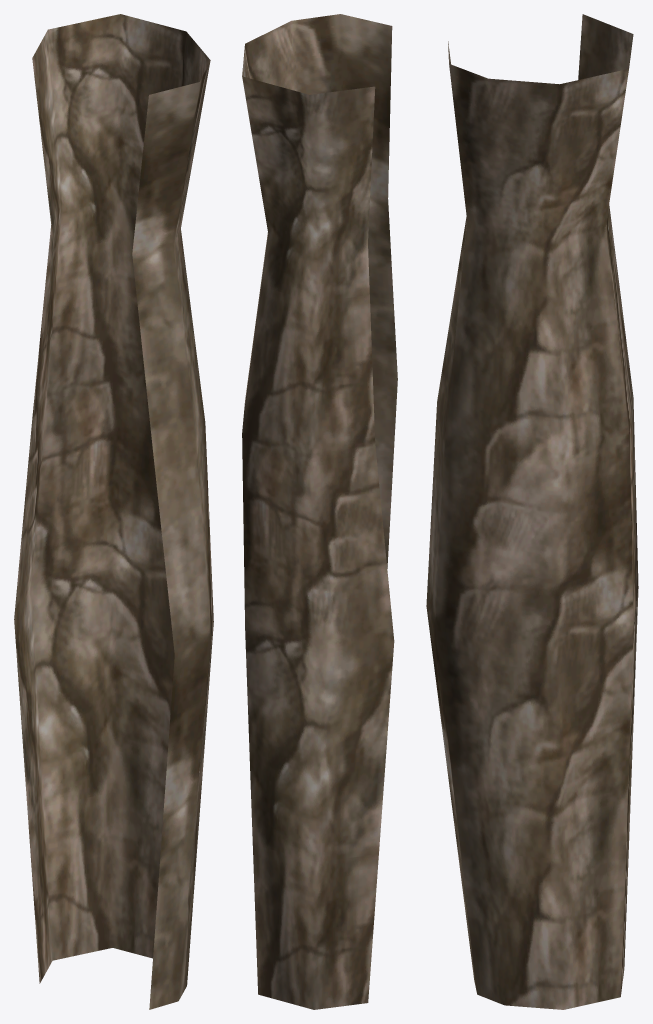
The model's file is OVERHILL_A_01_LINE344.fbx.
3 views of the same model, side by side, from view 1: azimuth 30°, elevation 25°; view 2: azimuth 150°, elevation 25°; view 3: azimuth 270°, elevation 25° (orthographic).
Visible parts, largest first — view 1: OVERHILL_A_01_LINE344; view 2: OVERHILL_A_01_LINE344; view 3: OVERHILL_A_01_LINE344.
Part boxes in pixels (x1,y1,x2,y2): OVERHILL_A_01_LINE344: (14,14,213,1009); OVERHILL_A_01_LINE344: (242,14,397,1009); OVERHILL_A_01_LINE344: (426,14,638,1009).
Size of the model in its own units: 19861 by 109001 by 22423.
Materials: 1 (1 with a texture image).
